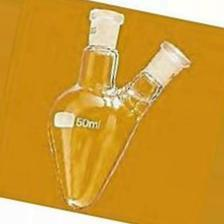Pear shaped flask: (38, 7, 189, 210)
